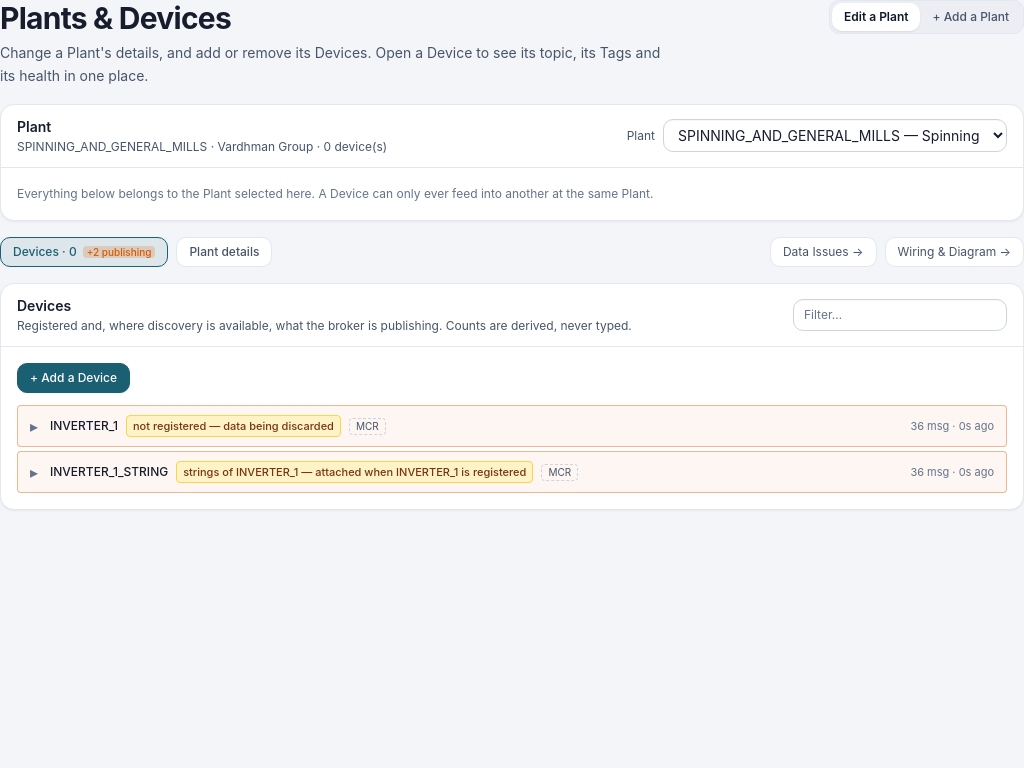
Plants & Devices: an Inverter and its string topic › registers the Inverter on its own topic and attaches its string topic in the same click
The image size is (1024, 768).
Click the 4th button at {"x": 84, "y": 426}, box [18,406,1006,446]
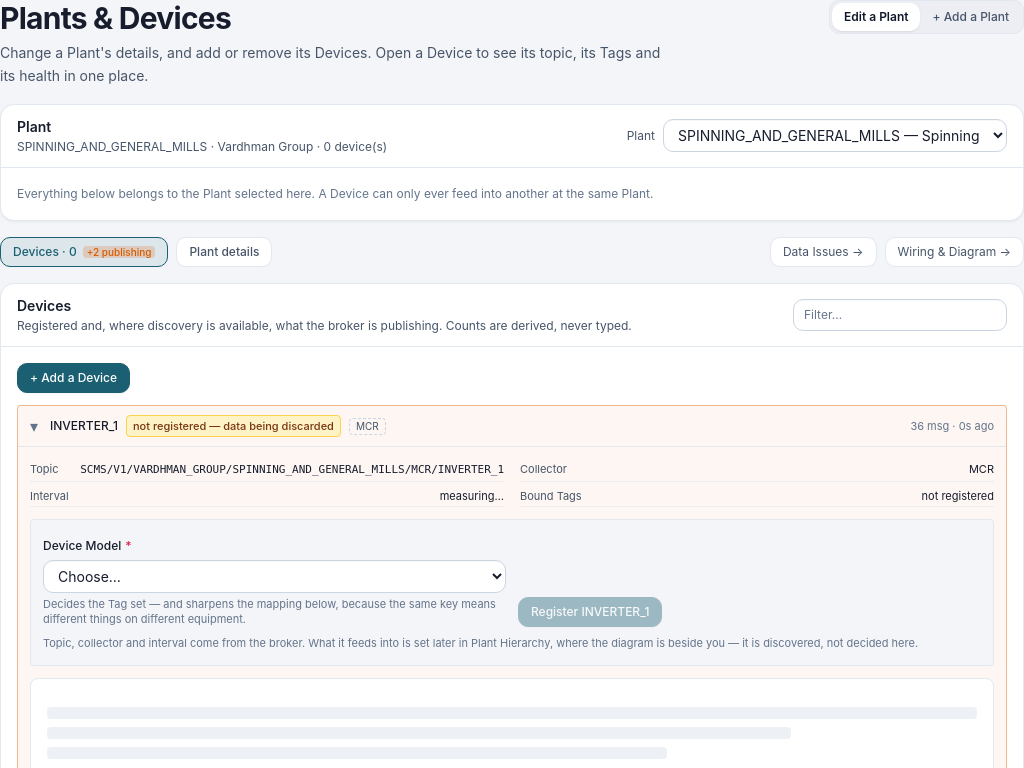
Select "INVERTER — ref-inverter-central (central)" in the 2nd dropdown at {"x": 274, "y": 576}, box [43,560,506,593]
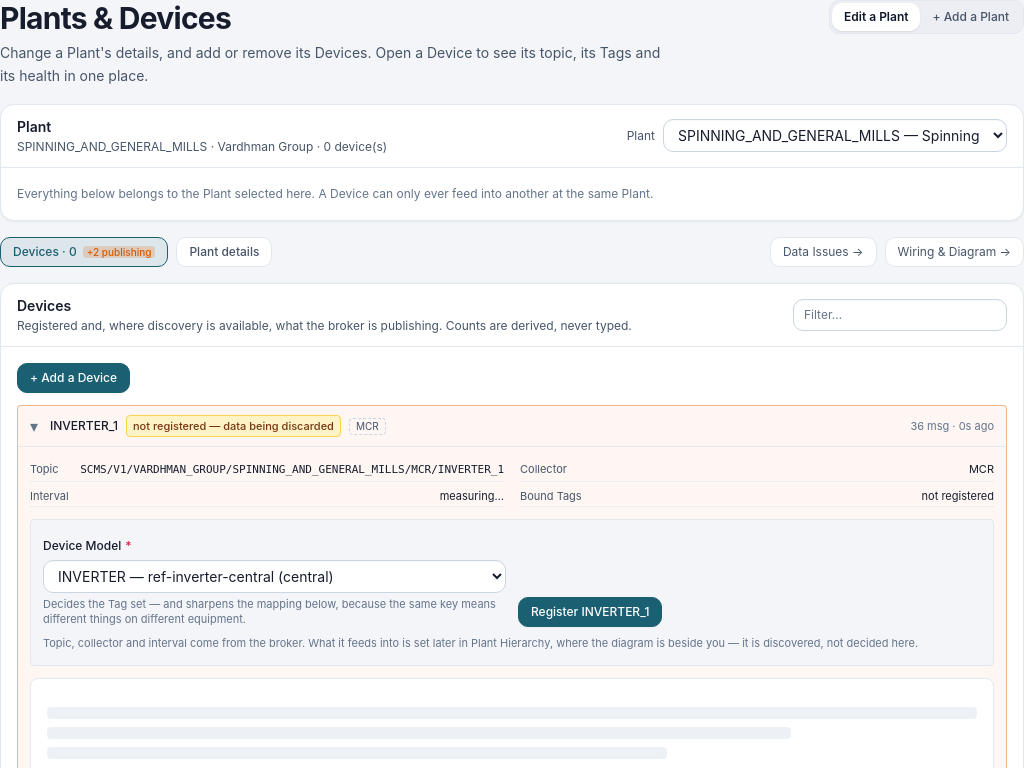
Click the button "Register INVERTER_1" at {"x": 590, "y": 612}, box [518,597,662,627]
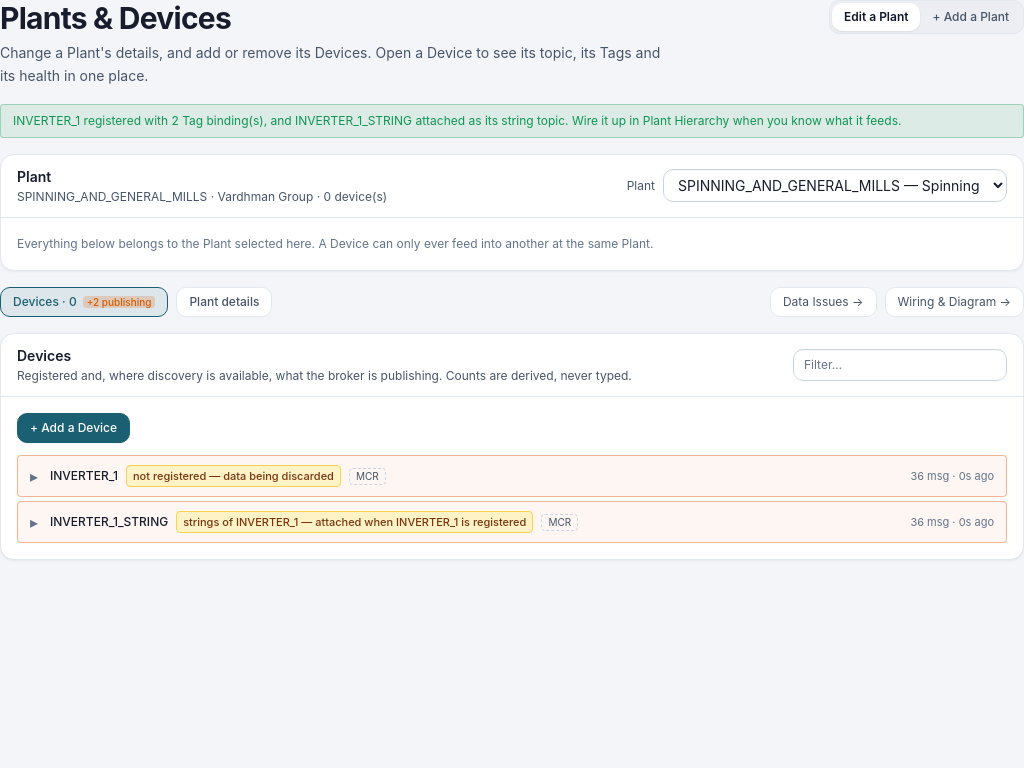
Check: the text "and INVERTER_1_STRING attached as its string topic" is shown, box [13,112,902,128]
